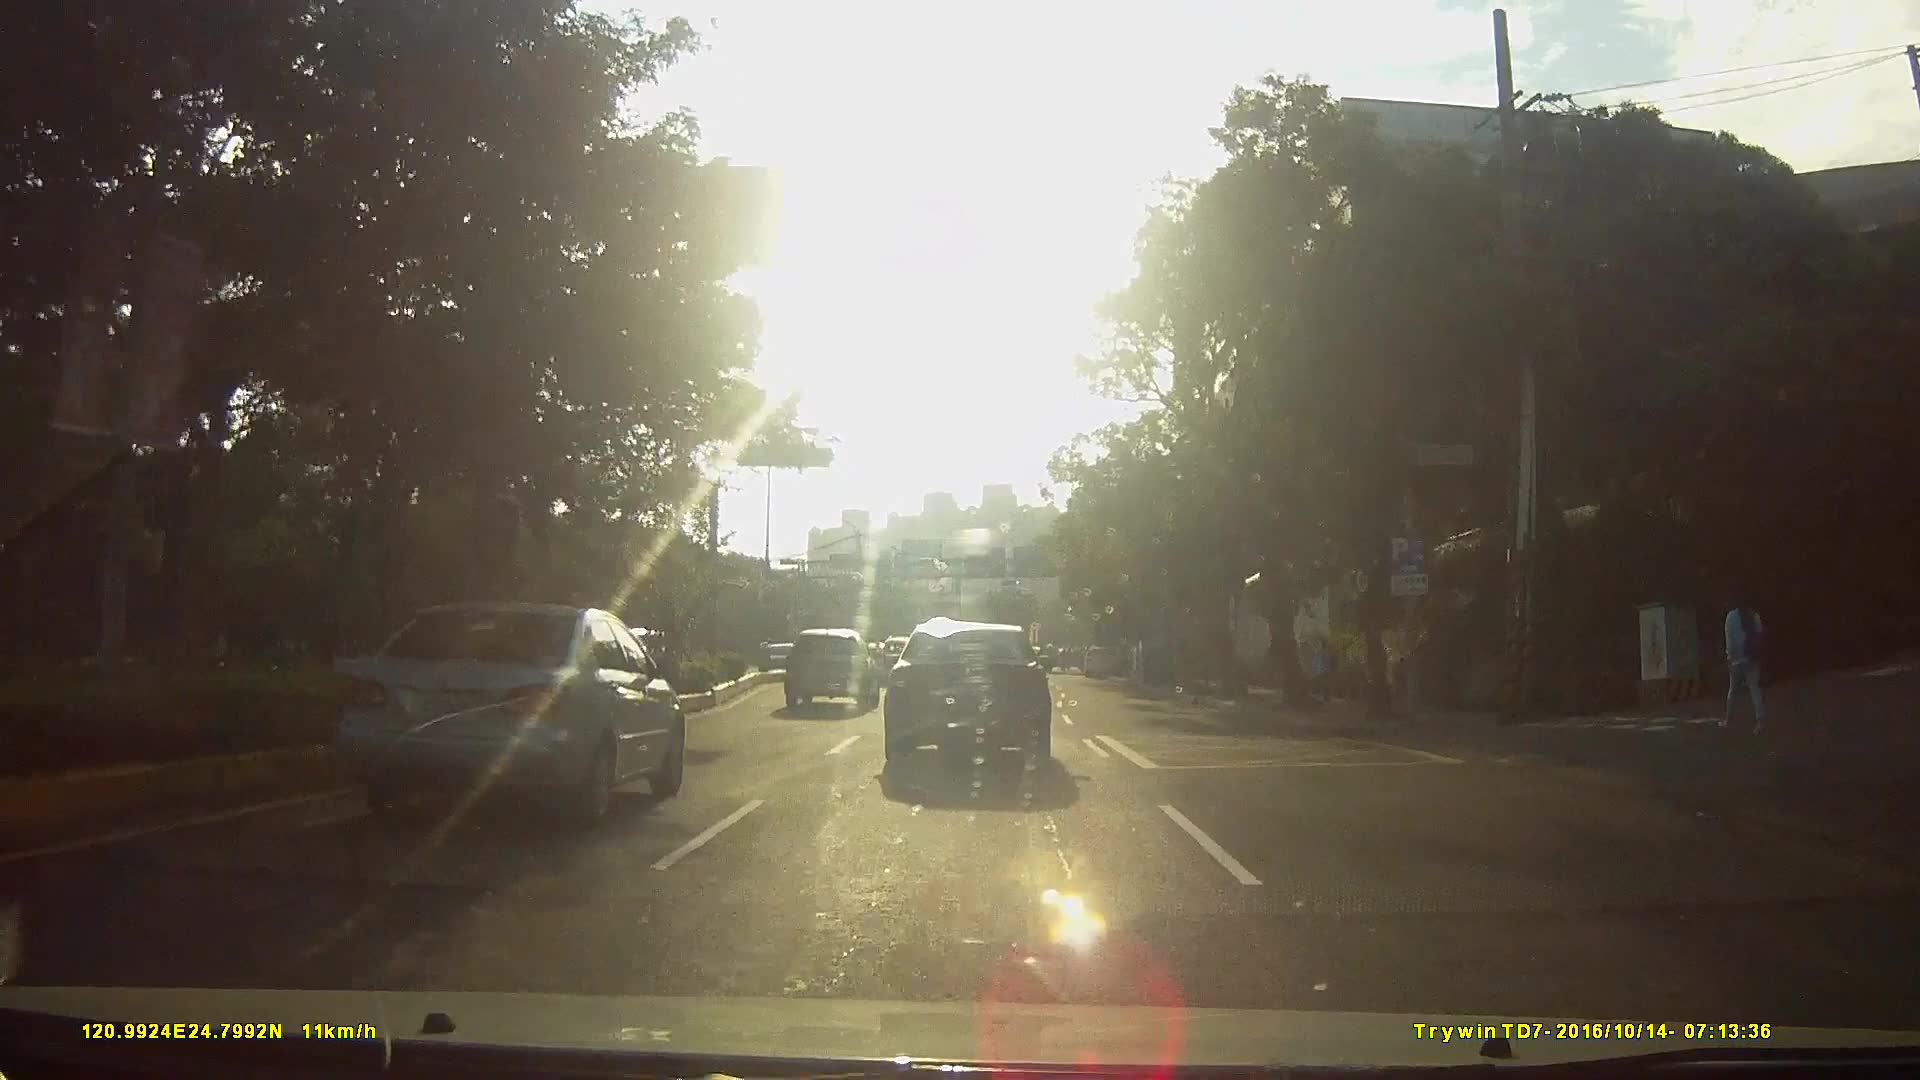pedestrian: (1715, 577, 1780, 740)
vehicle: (342, 599, 686, 818), (872, 617, 1065, 779), (779, 623, 879, 708), (746, 638, 790, 671), (1078, 642, 1113, 676)
